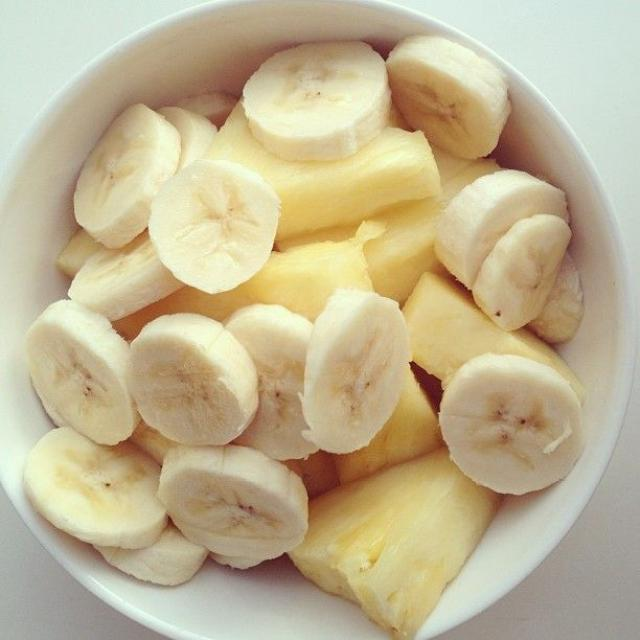banana slice: (440, 354, 584, 494), (243, 41, 391, 161), (149, 159, 280, 293), (303, 290, 410, 453), (158, 445, 307, 562), (25, 427, 167, 549), (130, 314, 258, 445), (27, 301, 139, 444), (434, 170, 568, 289), (74, 104, 180, 247), (387, 35, 510, 158), (225, 305, 317, 460), (473, 215, 570, 330), (68, 233, 184, 319), (96, 523, 208, 585), (529, 253, 583, 343), (157, 107, 217, 171), (56, 228, 103, 278), (177, 91, 238, 128), (130, 421, 177, 465), (210, 553, 263, 569)
pineapple: (289, 448, 499, 639), (207, 106, 439, 239), (116, 238, 372, 338), (404, 272, 582, 402), (363, 150, 500, 304), (334, 370, 441, 483), (280, 226, 357, 250)
